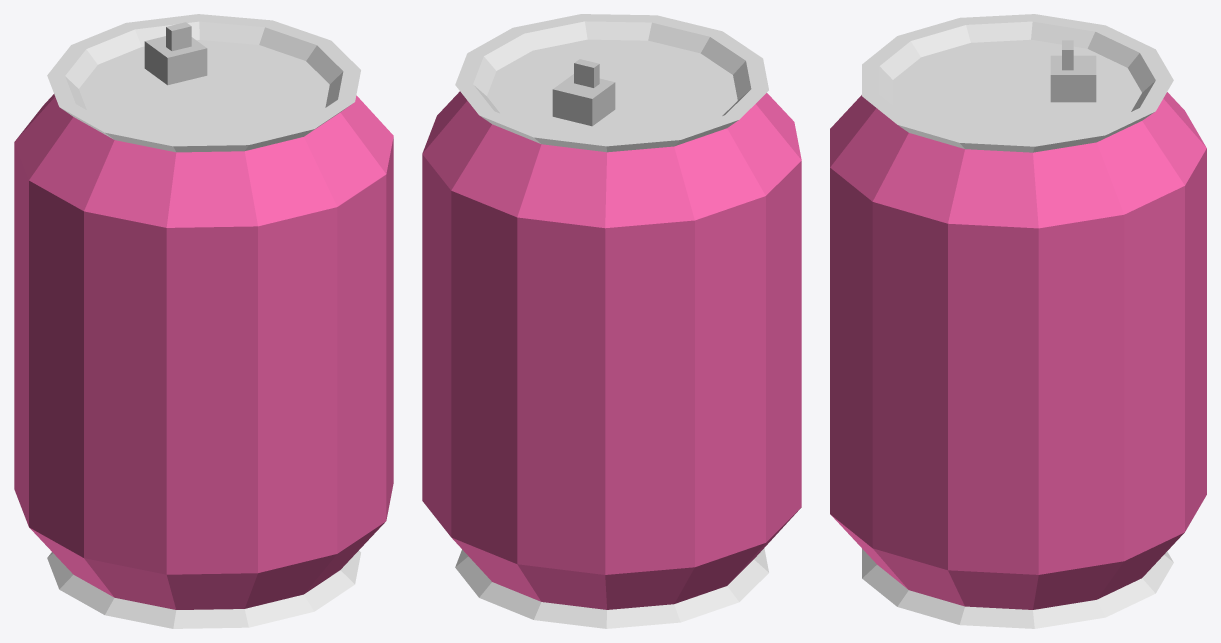
Rendered from can_pink.glb.
3 renders of one model, left to right at view 1: azimuth 30°, elevation 25°; view 2: azimuth 150°, elevation 25°; view 3: azimuth 270°, elevation 25°, orthographic.
Parts seen in each view (by area): view 1: Cylinder.001_Material.001_0, Cylinder.001_Material.002_0, Cylinder.001_Material.003_0; view 2: Cylinder.001_Material.001_0, Cylinder.001_Material.002_0, Cylinder.001_Material.003_0; view 3: Cylinder.001_Material.001_0, Cylinder.001_Material.002_0, Cylinder.001_Material.003_0.
Part boxes in pixels (<box>): Cylinder.001_Material.001_0: <box>14,94,393,609</box>; Cylinder.001_Material.002_0: <box>47,14,360,628</box>; Cylinder.001_Material.003_0: <box>144,22,207,85</box>; Cylinder.001_Material.001_0: <box>422,91,801,609</box>; Cylinder.001_Material.002_0: <box>455,14,768,628</box>; Cylinder.001_Material.003_0: <box>552,59,615,126</box>; Cylinder.001_Material.001_0: <box>830,92,1206,609</box>; Cylinder.001_Material.002_0: <box>862,14,1173,628</box>; Cylinder.001_Material.003_0: <box>1050,40,1096,102</box>.
Bounding box in the file's own units: 199 × 299 × 197.
